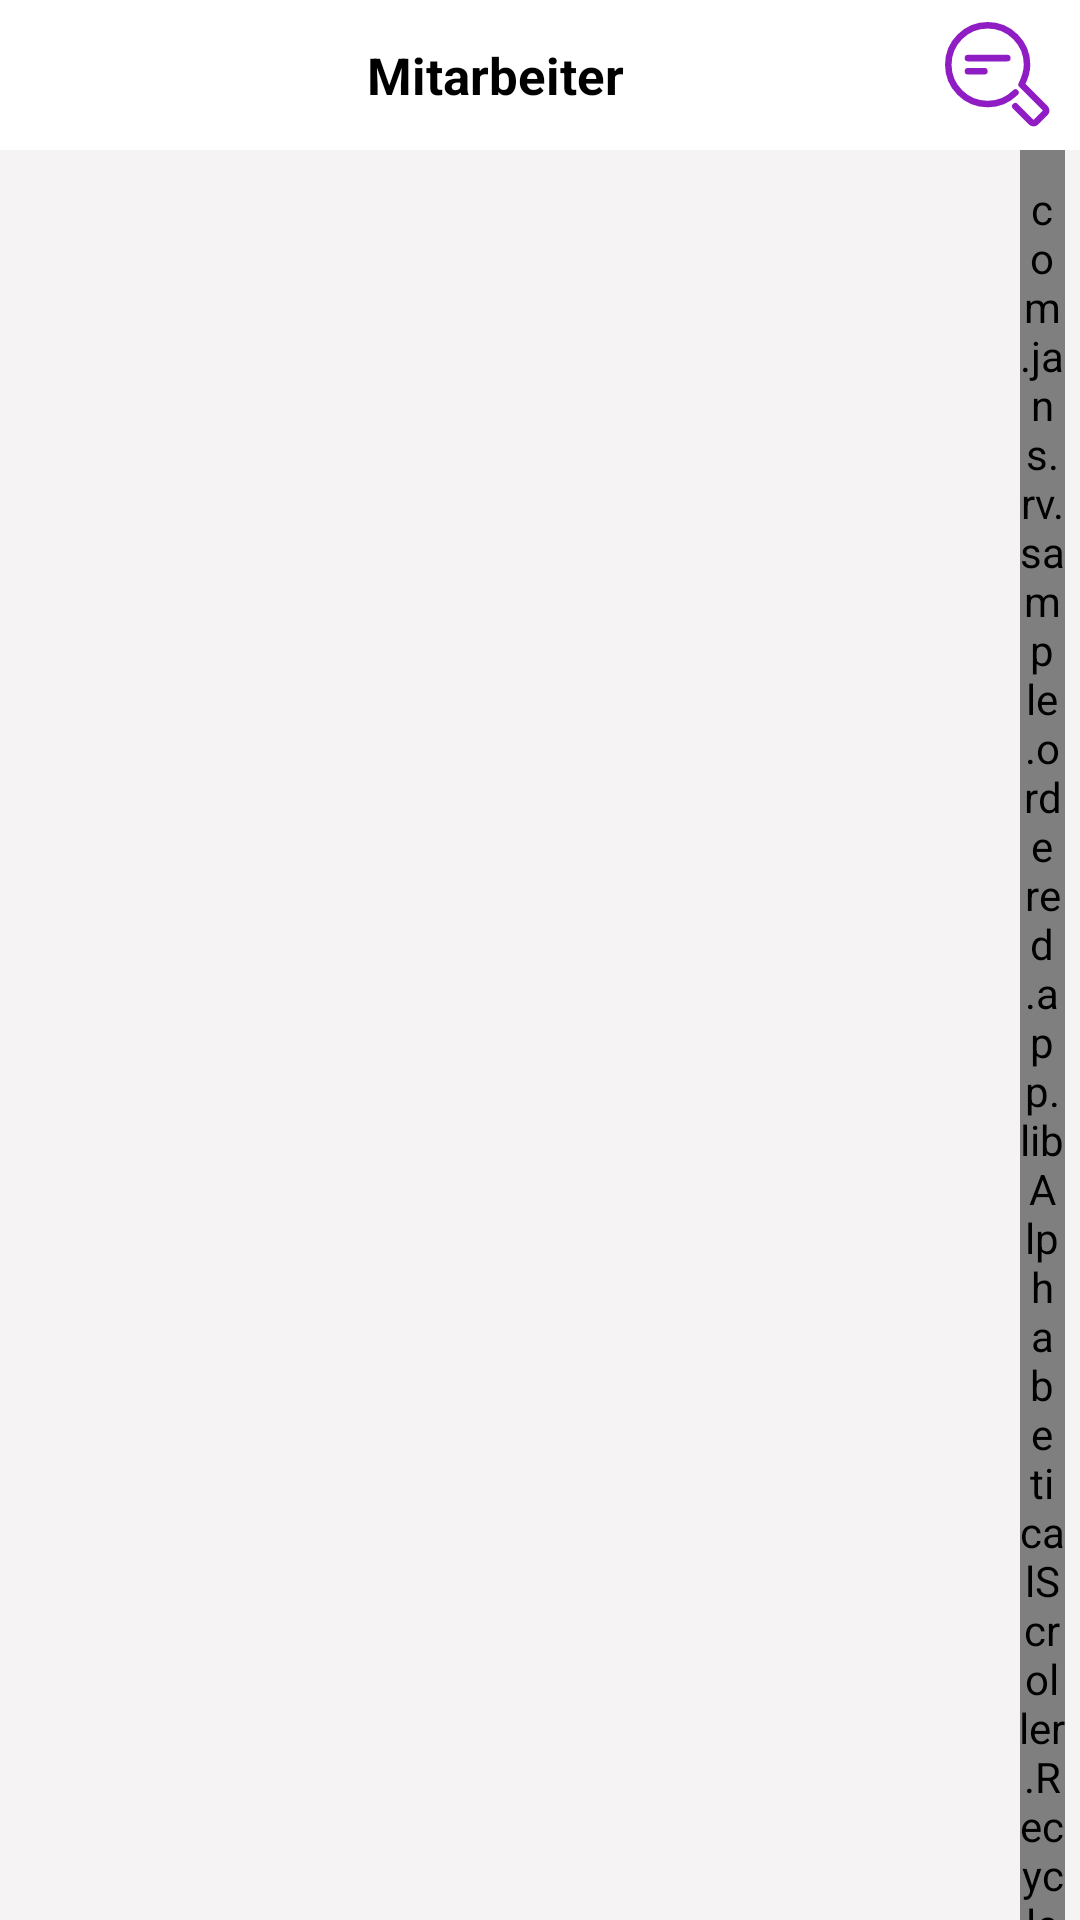

Icons on this 1080px x 1920px Android screen, each with the point to tap as point (x, y):
magnifier: point (997, 74)
